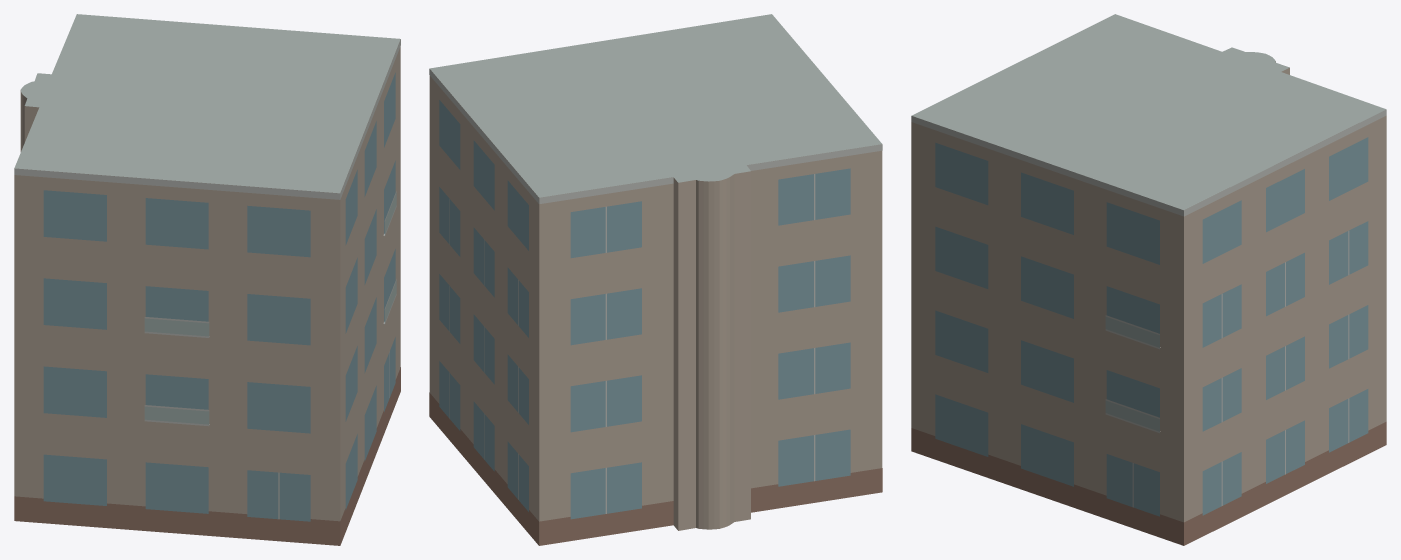
File: survey-upis-32702914.glb
The picture shows the model from 3 angles, left to right: view 1: azimuth 30°, elevation 25°; view 2: azimuth 150°, elevation 25°; view 3: azimuth 270°, elevation 25°; orthographic projection. The views are drawn at different scales.
Parts seen in each view (by area): view 1: survey-upis-32702914.tmp; view 2: survey-upis-32702914.tmp; view 3: survey-upis-32702914.tmp.
Boxes of the visible parts, left/top/right/bottom form: survey-upis-32702914.tmp: left=14, top=14, right=400, bottom=545; survey-upis-32702914.tmp: left=429, top=14, right=882, bottom=545; survey-upis-32702914.tmp: left=911, top=14, right=1386, bottom=545.
Size of the model in its own units: 16.46 by 13.11 by 16.83.
